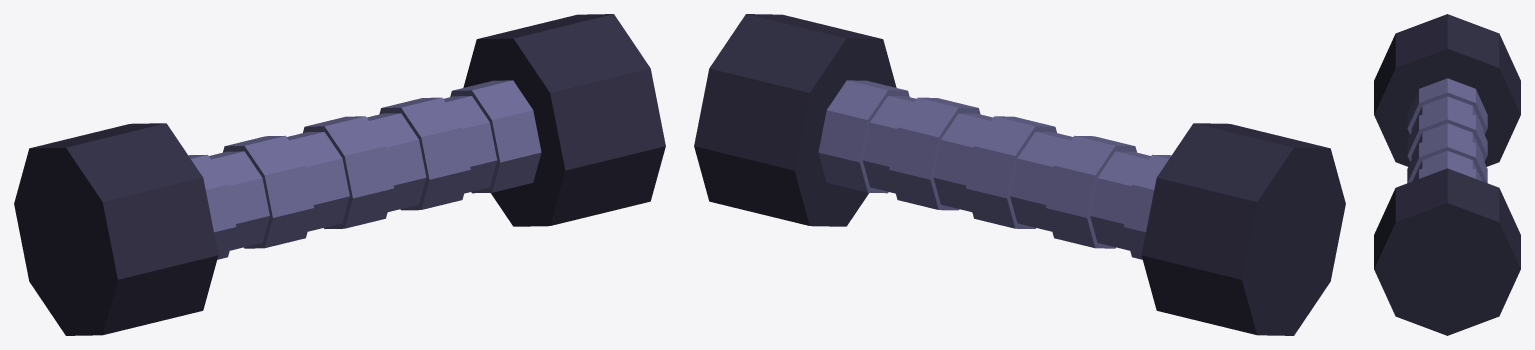
The model's file is dumbbells.fbx.
3 renders of one model, left to right at view 1: azimuth 30°, elevation 25°; view 2: azimuth 150°, elevation 25°; view 3: azimuth 270°, elevation 25°, orthographic. The views are drawn at different scales.
Parts seen in each view (by area): view 1: Cylinder; view 2: Cylinder; view 3: Cylinder.
Part boxes in pixels (bbox=[...]): Cylinder: bbox=[14, 14, 665, 335]; Cylinder: bbox=[694, 14, 1345, 335]; Cylinder: bbox=[1374, 14, 1520, 335].
Bounding box in the file's own units: 458 × 150 × 150.
